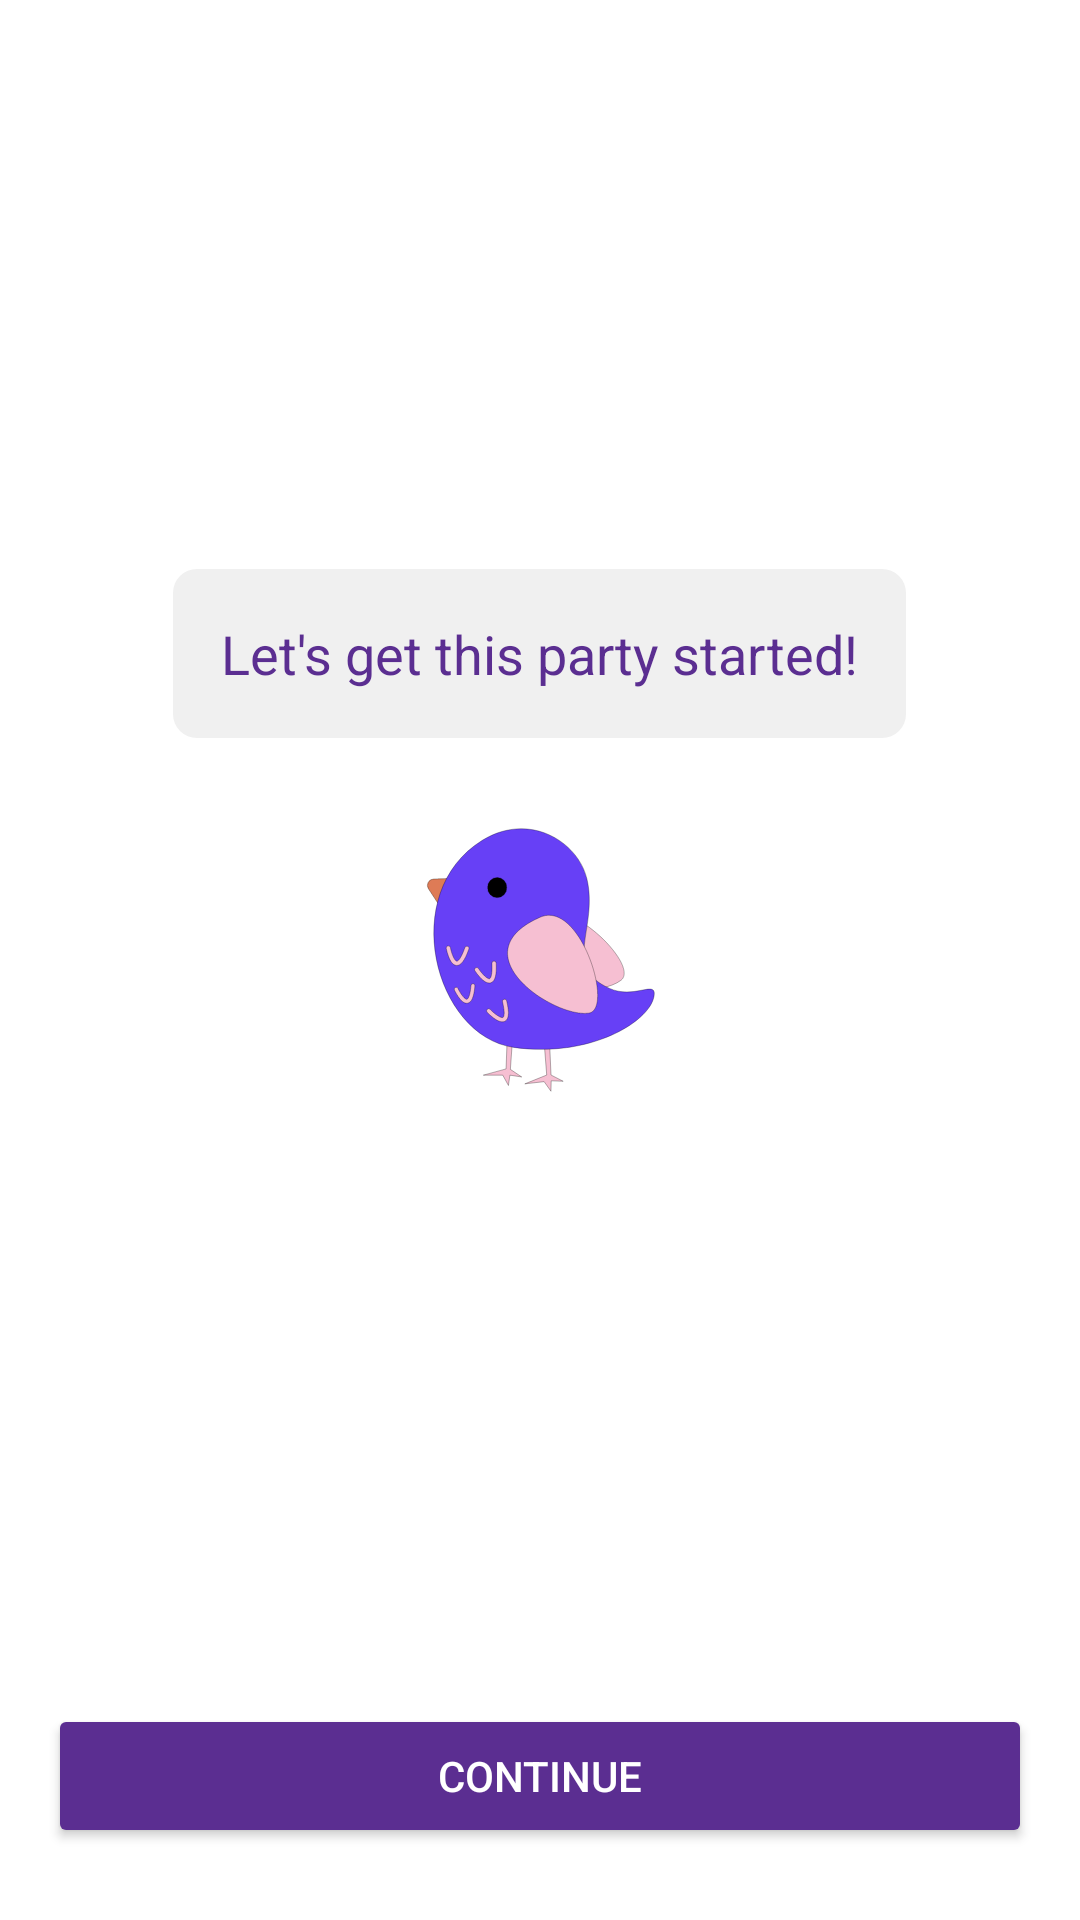

Locate icon controls on the screen. Image size 1080w x 1920h, boxes as bbox=(x1, y1, x2, y2).
bird: bbox=(427, 828, 655, 1091)
